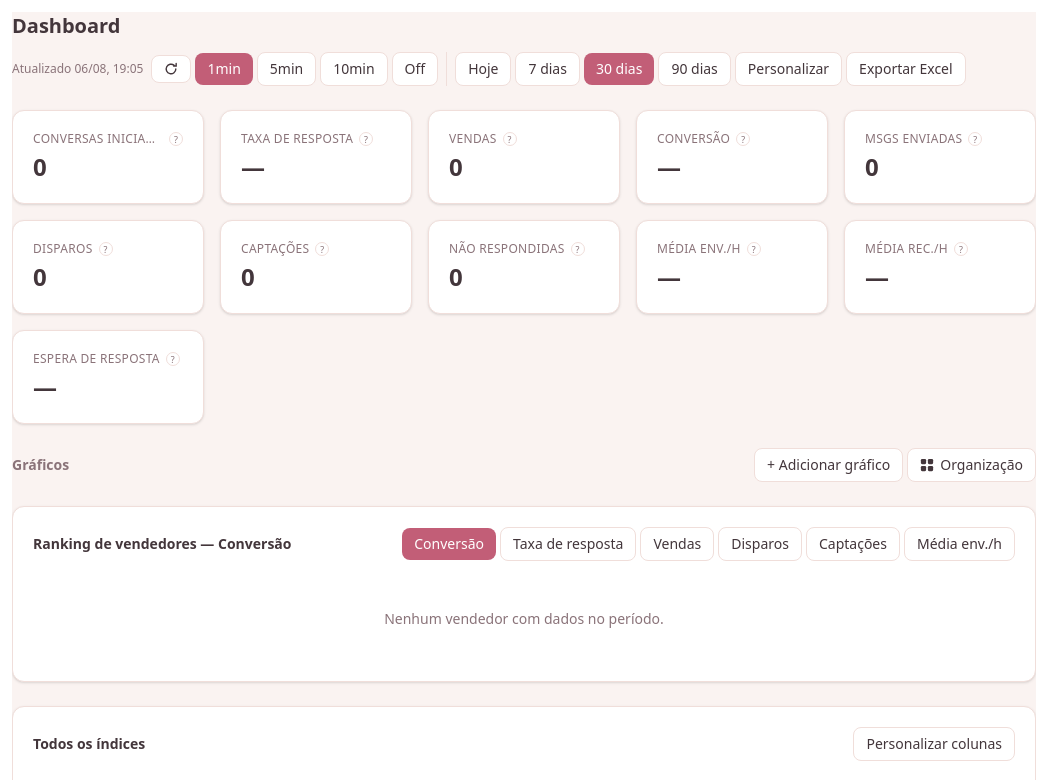
Test case: DashboardPage › selecionar métrica já usada em outro gráfico troca as duas
Expected: the heading "Ranking de vendedores — Conversão" is shown, left=33, top=534, right=292, bottom=554
Step 1. Click the button "+ Adicionar gráfico" → x=829, y=465, box left=754, top=448, right=903, bottom=482
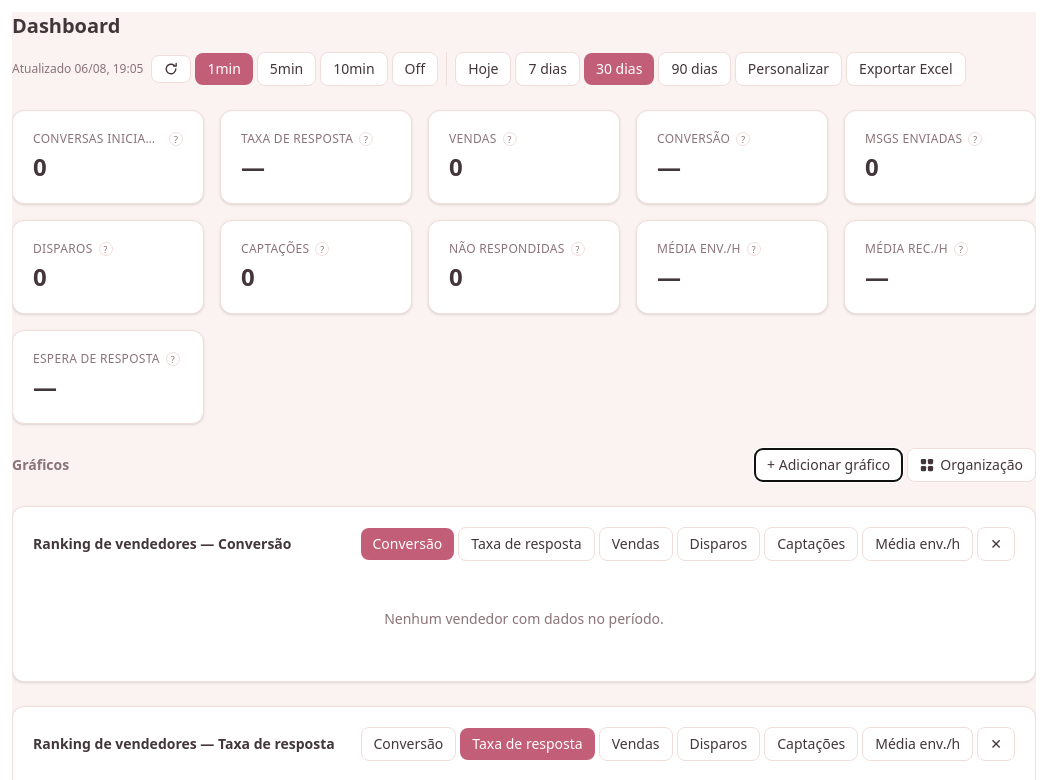
Step 2. Click the 2nd button "Conversão" → x=408, y=744, box left=360, top=727, right=456, bottom=761
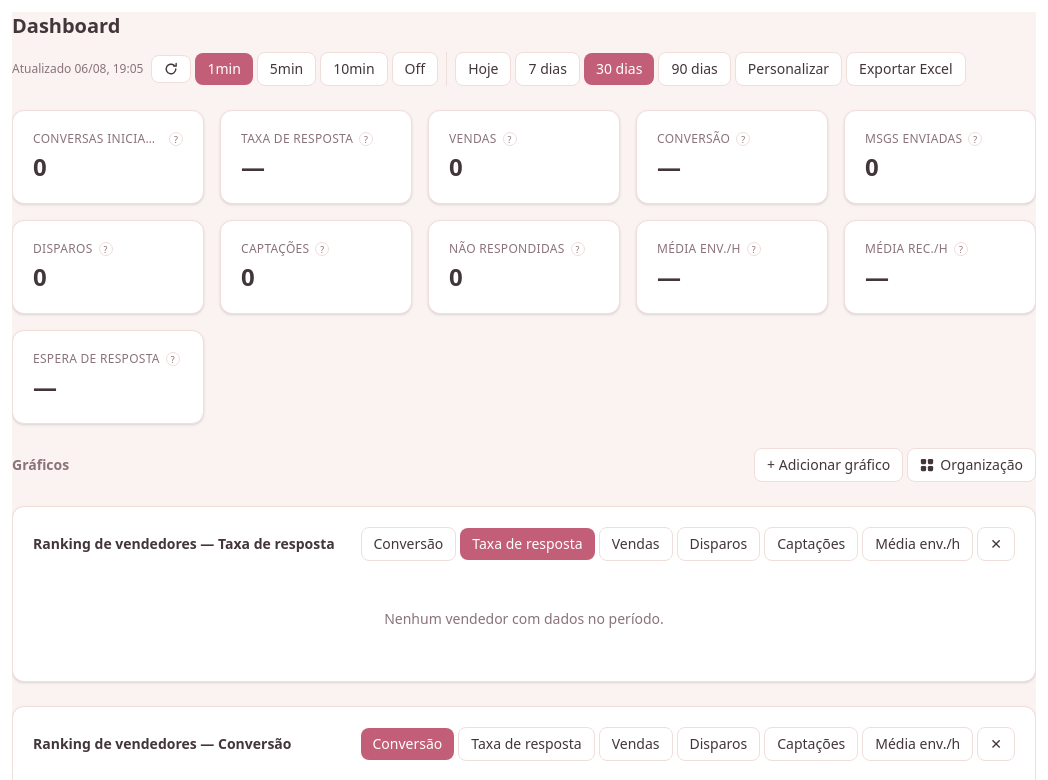
Expected: the heading "Ranking de vendedores — Taxa de resposta" is shown, left=33, top=534, right=335, bottom=554
Expected: the heading "Ranking de vendedores — Conversão" is shown, left=33, top=734, right=292, bottom=754
